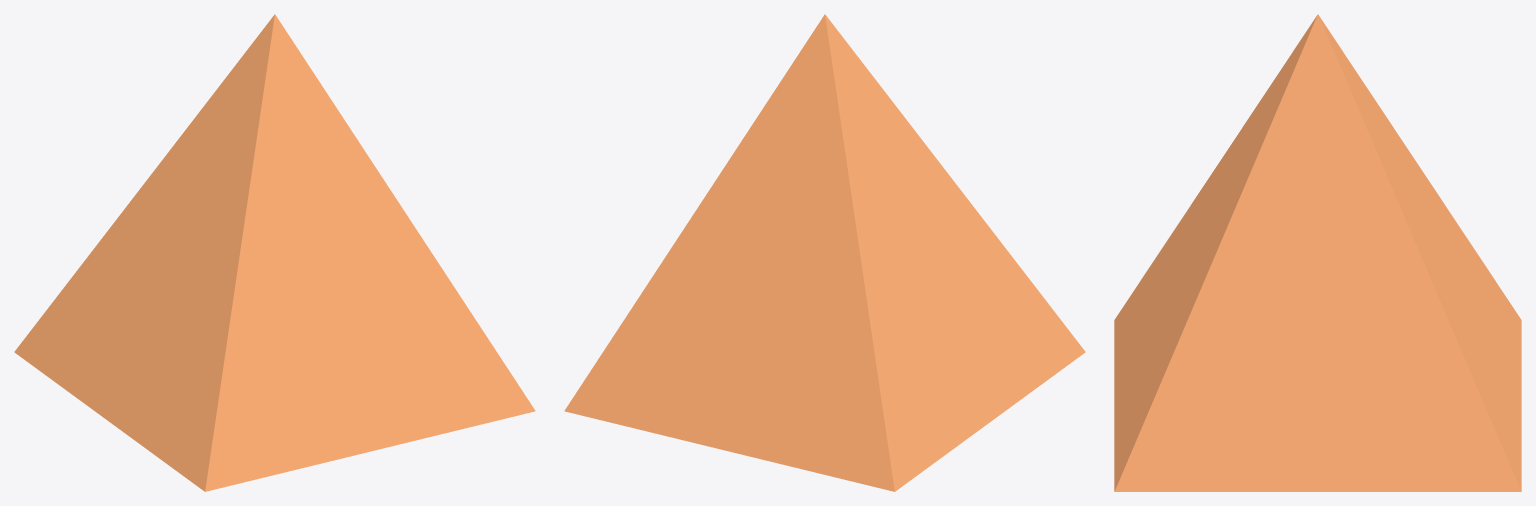
File: f1-technical-pyramid.glb
3 renders of one model, left to right at view 1: azimuth 30°, elevation 25°; view 2: azimuth 150°, elevation 25°; view 3: azimuth 270°, elevation 25°, orthographic. The views are drawn at different scales.
Parts seen in each view (by area): view 1: F1 technical pyramid; view 2: F1 technical pyramid; view 3: F1 technical pyramid.
Part boxes in pixels (x1,y1,x2,y2): F1 technical pyramid: (14,14,535,491); F1 technical pyramid: (564,14,1085,491); F1 technical pyramid: (1114,14,1521,491).
Size of the model in its own units: 1.6 by 1.7 by 1.6.
